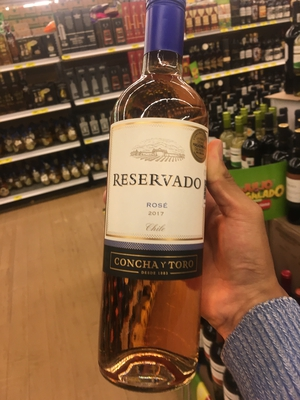reservado rose: (109, 7, 208, 382)
